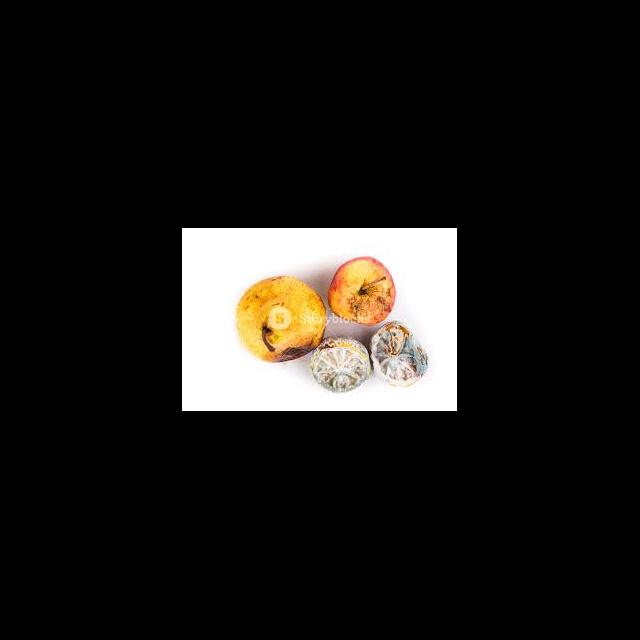food_waste: (225, 252, 443, 398)
